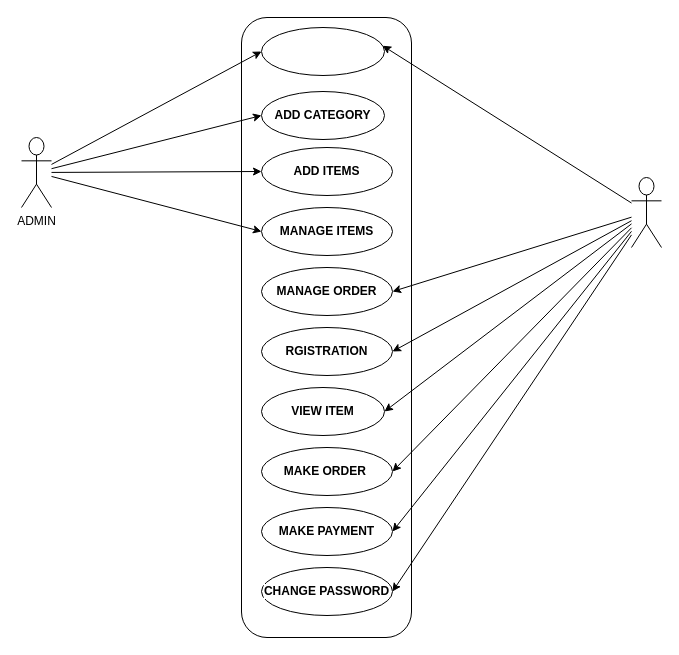
Some shapes in this 679 by 655 pixel diagram are drawn without their labels. The shapes that lost their labels are listed below. From the top down, each one's centre as x and y in pixels, then its label:
At point 322,51: "LOGIN".
At point 646,212: "User".
